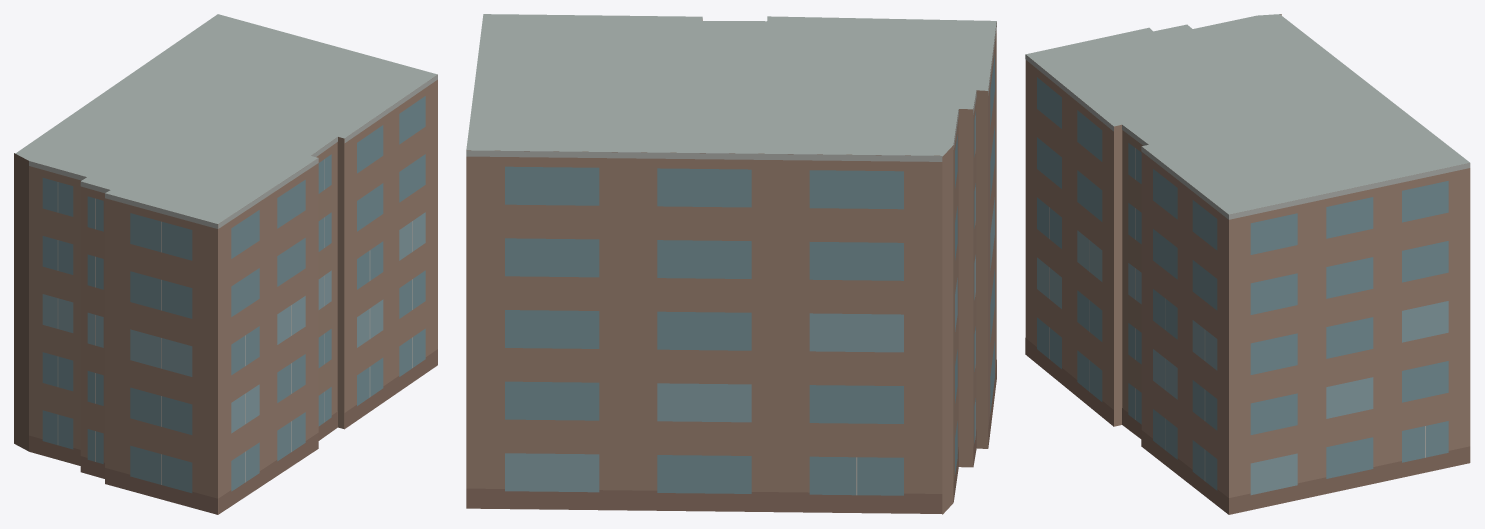
File: survey-upis-32960419.glb
3 renders of one model, left to right at view 1: azimuth 30°, elevation 25°; view 2: azimuth 150°, elevation 25°; view 3: azimuth 270°, elevation 25°, orthographic. The views are drawn at different scales.
Parts seen in each view (by area): view 1: survey-upis-32960419.tmp; view 2: survey-upis-32960419.tmp; view 3: survey-upis-32960419.tmp.
Boxes of the visible parts, <box> form: survey-upis-32960419.tmp: <box>14,14,437,514</box>; survey-upis-32960419.tmp: <box>466,14,996,514</box>; survey-upis-32960419.tmp: <box>1025,14,1470,514</box>.
Size of the model in its own units: 20.36 by 14.2 by 19.08.
